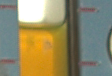border: (77, 6, 99, 14), (77, 60, 100, 67), (0, 58, 16, 65), (0, 4, 18, 10)
liquidlevel: (18, 18, 70, 35)
